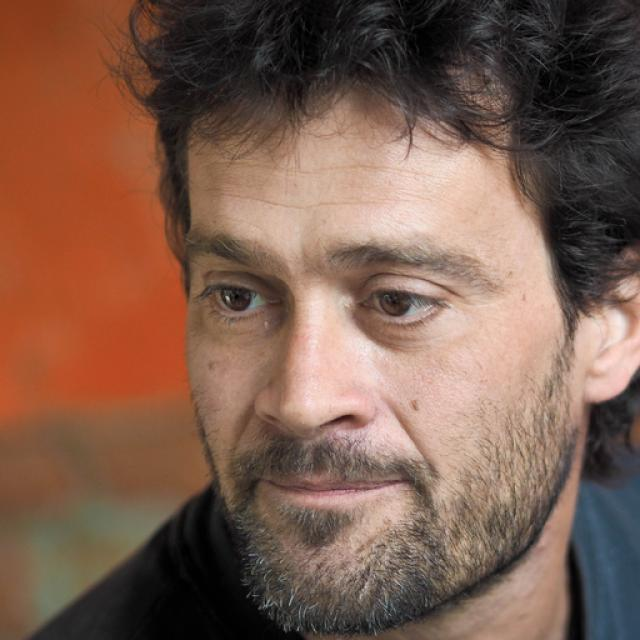content: (181, 102, 580, 626)
